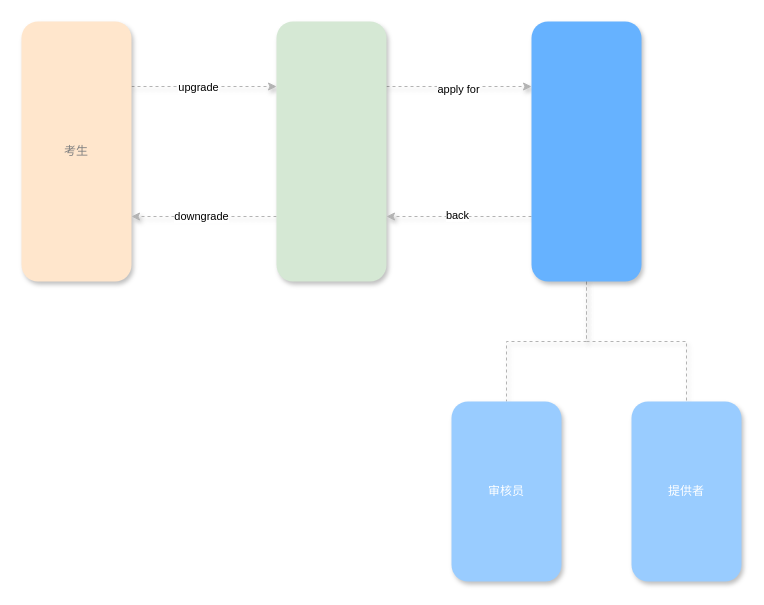
Some shapes in this 764 by 605 pixel diagram are drawn without their labels. Each missing label, with the centre of its shape:
会员: point 332,152
贡献者: point 587,152
